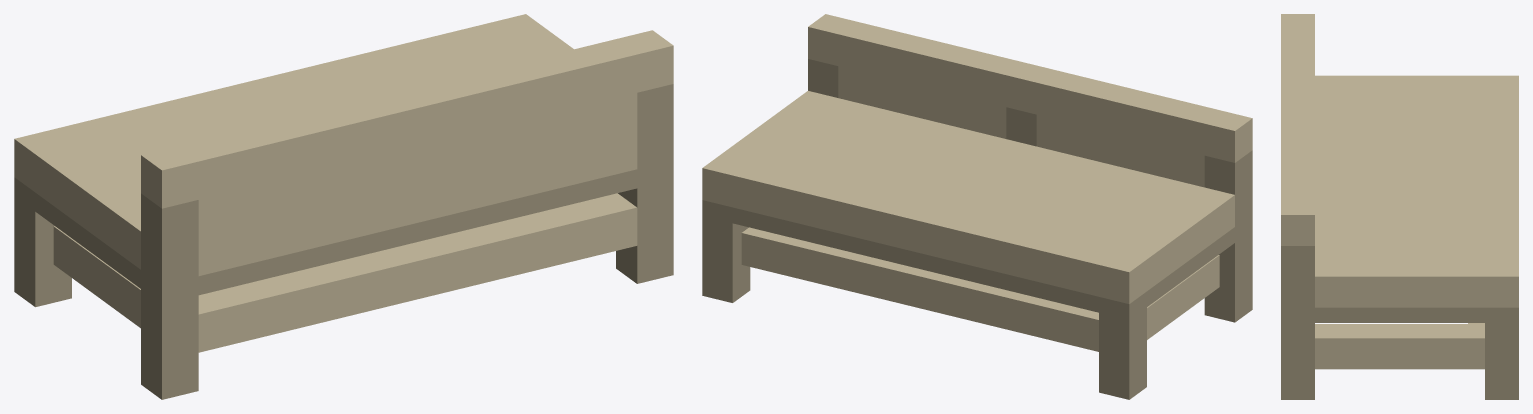
File: banco_pino_01.glb
3 renders of one model, left to right at view 1: azimuth 30°, elevation 25°; view 2: azimuth 150°, elevation 25°; view 3: azimuth 270°, elevation 25°, orthographic. The views are drawn at different scales.
Visible parts, largest first — view 1: banco_pino; view 2: banco_pino; view 3: banco_pino.
Boxes of the visible parts, x1=… form: banco_pino: x1=14, y1=14, x2=673, y2=399; banco_pino: x1=702, y1=14, x2=1252, y2=399; banco_pino: x1=1281, y1=14, x2=1518, y2=399.
Size of the model in its own units: 2 by 0.8571 by 1.
